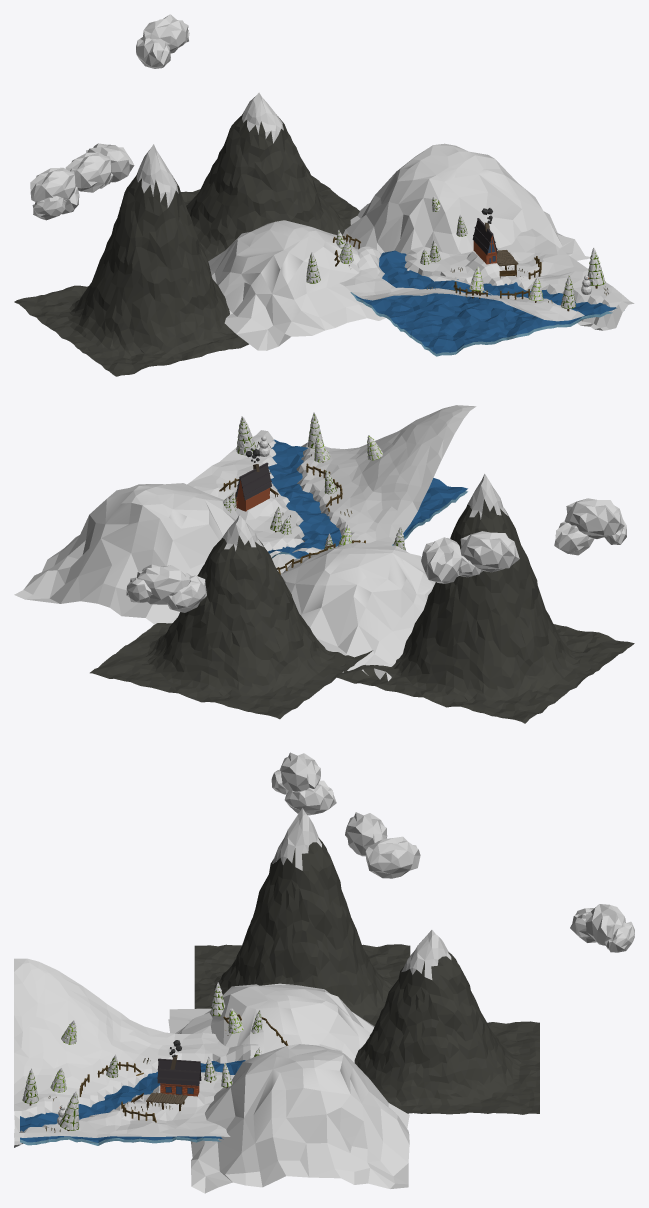
The model's file is hytte.glb.
The picture shows the model from 3 angles, top to bottom: view 1: azimuth 30°, elevation 25°; view 2: azimuth 150°, elevation 25°; view 3: azimuth 270°, elevation 25°; orthographic projection. The views are drawn at different scales.
Visible parts, largest first — view 1: Plane.035, Plane.033, Plane.032, Plane.034, Plane.002_Plane.004, Plane_Plane.001, Cylinder.014_Cylinder.024, Icosphere.002, Icosphere.004, Icosphere.007, Plane.001_Plane.002, Icosphere.006 (+3 smaller); view 2: Plane.035, Plane.034, Plane.002_Plane.004, Plane.033, Plane.032, Plane_Plane.001, Cylinder.014_Cylinder.024, Icosphere.002, Icosphere.004, Icosphere, Icosphere.007, Cube.001_Cube.002 (+3 smaller); view 3: Plane.033, Plane.002_Plane.004, Plane.034, Plane.035, Plane.032, Cylinder.014_Cylinder.024, Plane_Plane.001, Icosphere, Cube.001_Cube.002, Icosphere.004, Icosphere.002, Icosphere.005 (+3 smaller).
Part boxes in pixels (bbox=[...]): Plane.035: bbox=[14, 144, 248, 376]; Plane.033: bbox=[342, 143, 590, 260]; Plane.032: bbox=[208, 220, 385, 350]; Plane.034: bbox=[181, 92, 359, 261]; Plane.002_Plane.004: bbox=[339, 228, 634, 330]; Plane_Plane.001: bbox=[355, 250, 616, 353]; Cylinder.014_Cylinder.024: bbox=[306, 196, 605, 311]; Icosphere.002: bbox=[65, 152, 112, 192]; Icosphere.004: bbox=[30, 167, 76, 202]; Icosphere.007: bbox=[143, 14, 188, 53]; Plane.001_Plane.002: bbox=[350, 292, 624, 356]; Icosphere.006: bbox=[136, 37, 170, 68]; Plane.035: bbox=[337, 473, 634, 723]; Plane.034: bbox=[90, 515, 372, 719]; Plane.002_Plane.004: bbox=[187, 405, 476, 572]; Plane.033: bbox=[14, 483, 237, 624]; Plane.032: bbox=[281, 542, 435, 681]; Plane_Plane.001: bbox=[268, 439, 467, 558]; Cylinder.014_Cylinder.024: bbox=[223, 412, 405, 550]; Icosphere.002: bbox=[460, 531, 519, 572]; Icosphere.004: bbox=[564, 498, 624, 538]; Icosphere: bbox=[421, 537, 462, 583]; Icosphere.007: bbox=[136, 564, 190, 604]; Cube.001_Cube.002: bbox=[235, 462, 271, 511]; Plane.033: bbox=[191, 1044, 409, 1193]; Plane.002_Plane.004: bbox=[14, 958, 258, 1147]; Plane.034: bbox=[354, 930, 539, 1114]; Plane.035: bbox=[194, 808, 410, 1022]; Plane.032: bbox=[168, 983, 374, 1062]; Cylinder.014_Cylinder.024: bbox=[22, 982, 262, 1130]; Plane_Plane.001: bbox=[20, 1060, 245, 1142]; Icosphere: bbox=[365, 836, 420, 878]; Cube.001_Cube.002: bbox=[157, 1058, 201, 1096]; Icosphere.004: bbox=[280, 752, 320, 791]; Icosphere.002: bbox=[345, 812, 387, 856]; Icosphere.005: bbox=[284, 780, 336, 815].
Size of the model in its own units: 34.73 by 12.18 by 34.42.
